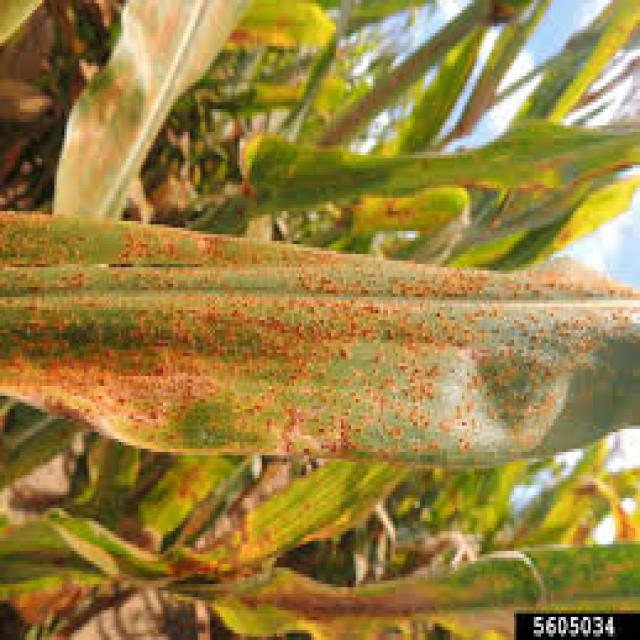Corn_Rust: (0, 198, 640, 472)
